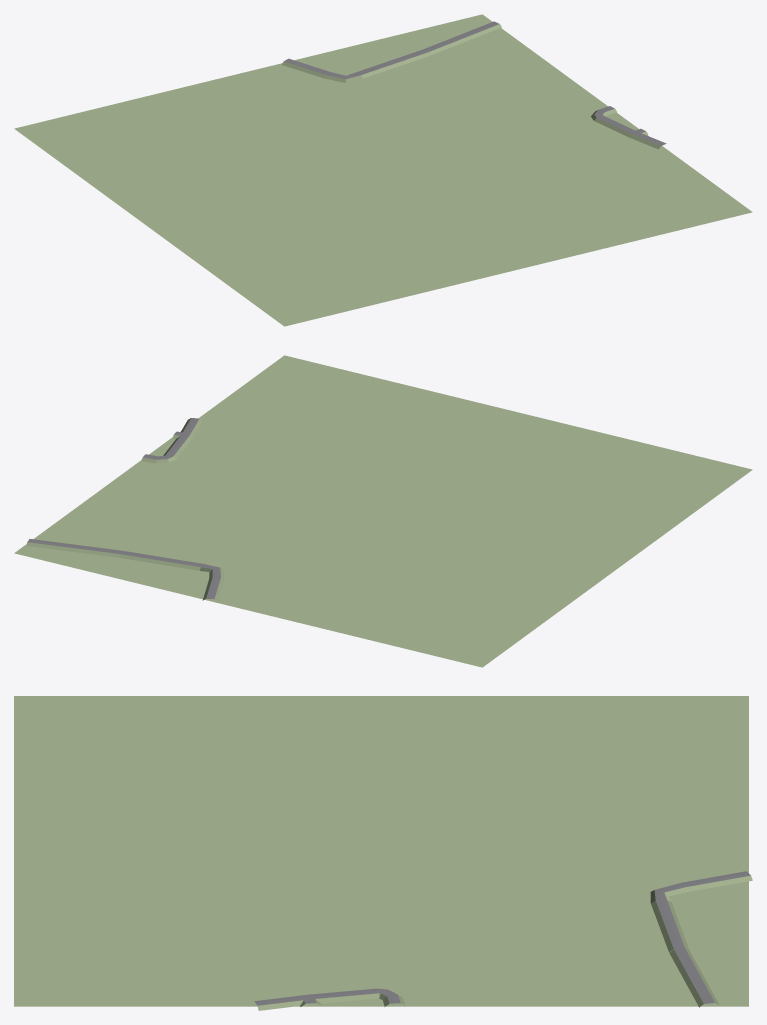
The model's file is dhamrai_chunk_x-2_z0.glb.
3 views of the same model, one above another, from view 1: azimuth 30°, elevation 25°; view 2: azimuth 150°, elevation 25°; view 3: azimuth 270°, elevation 25° (orthographic). The views are drawn at different scales.
Visible parts, largest first — view 1: terrain, roads, embankments; view 2: terrain, roads, embankments; view 3: terrain, roads, embankments.
Boxes of the visible parts, x1,y1,x2,y2 form: terrain: (14, 14, 752, 326); roads: (284, 21, 666, 145); embankments: (281, 24, 660, 149); terrain: (14, 355, 752, 667); roads: (27, 418, 220, 599); embankments: (26, 418, 224, 601); terrain: (14, 696, 748, 1006); roads: (254, 871, 750, 1005); embankments: (257, 875, 752, 1010).
Size of the model in its own units: 260 by 1.23 by 257.
